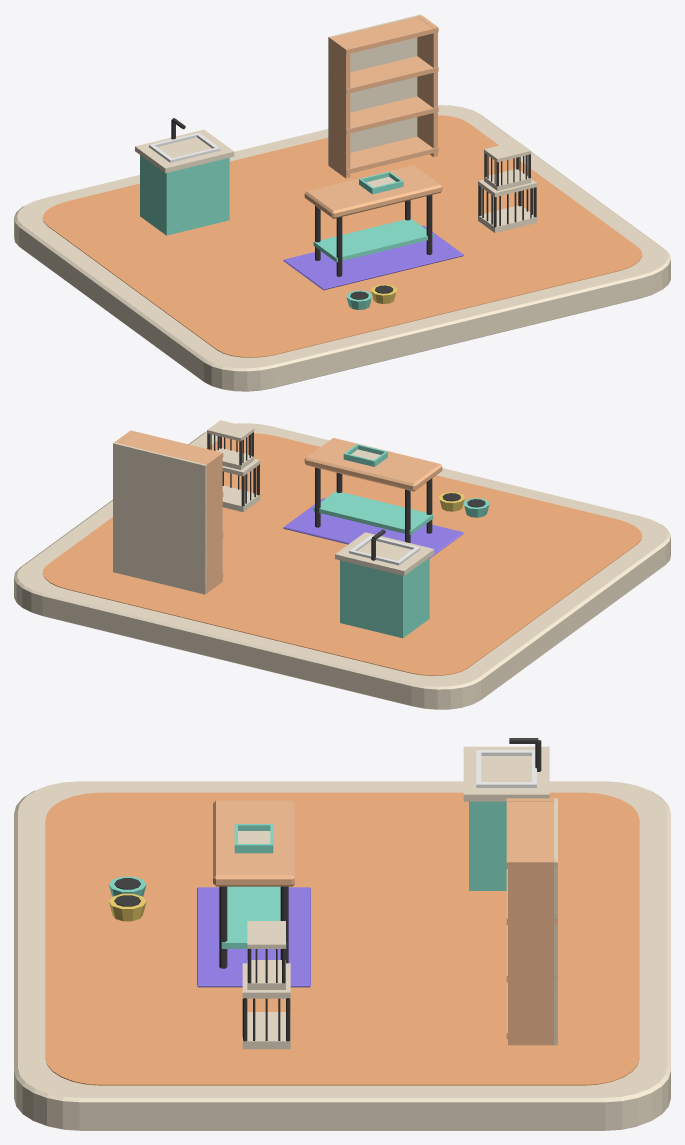
3 views of the same model, one above another, from view 1: azimuth 30°, elevation 25°; view 2: azimuth 150°, elevation 25°; view 3: azimuth 270°, elevation 25° (orthographic). The views are drawn at different scales.
Parts seen in each view (by area): view 1: COM-02 Floor Surface, COM-01 Rounded Base Direct, Cabinet, Back, Rug, Worktop, Side, Lower shelf, Counter, Side.001, Shelf.003, Shelf (+5 smaller); view 2: COM-02 Floor Surface, COM-01 Rounded Base Direct, Back, Cabinet, Worktop, Rug, Lower shelf, Side, Counter, Shelf.003, Floor, Roof.001 (+1 smaller); view 3: COM-02 Floor Surface, COM-01 Rounded Base Direct, Side.001, Worktop, Rug, Counter, Cabinet, Shelf.003, Lower shelf, Floor, Roof.001, Back (+4 smaller).
Boxes of the visible parts, x1,y1,x2,y2 form: COM-02 Floor Surface: (42, 115, 642, 357); COM-01 Rounded Base Direct: (14, 105, 670, 391); Cabinet: (140, 155, 229, 235); Back: (328, 14, 421, 165); Rug: (283, 225, 463, 290); Worktop: (304, 165, 442, 218); Side: (329, 37, 350, 178); Lower shelf: (313, 218, 433, 262); Counter: (135, 129, 234, 173); Side.001: (417, 15, 437, 156); Shelf.003: (328, 16, 438, 54); Shelf: (328, 136, 438, 174); COM-02 Floor Surface: (42, 433, 642, 675); COM-01 Rounded Base Direct: (14, 423, 670, 709); Back: (113, 442, 206, 594); Cabinet: (340, 557, 429, 638); Worktop: (304, 438, 442, 491); Rug: (283, 498, 463, 558); Lower shelf: (313, 491, 433, 534); Side: (202, 452, 222, 593); Counter: (335, 532, 434, 575); Shelf.003: (119, 430, 223, 469); Floor: (222, 485, 260, 512); Roof.001: (207, 420, 254, 441); COM-02 Floor Surface: (45, 792, 639, 1085); COM-01 Rounded Base Direct: (14, 781, 670, 1130); Side.001: (508, 859, 555, 1045); Worktop: (213, 800, 294, 886); Rug: (197, 887, 310, 987); Counter: (463, 746, 549, 801); Cabinet: (469, 801, 506, 890); Shelf.003: (506, 798, 556, 868); Lower shelf: (221, 886, 286, 948); Floor: (242, 1012, 290, 1049); Roof.001: (247, 921, 285, 948); Back: (554, 798, 557, 1045).
Size of the model in its own units: 6 by 1.9 by 5.2.
1 material, 1 textured.
